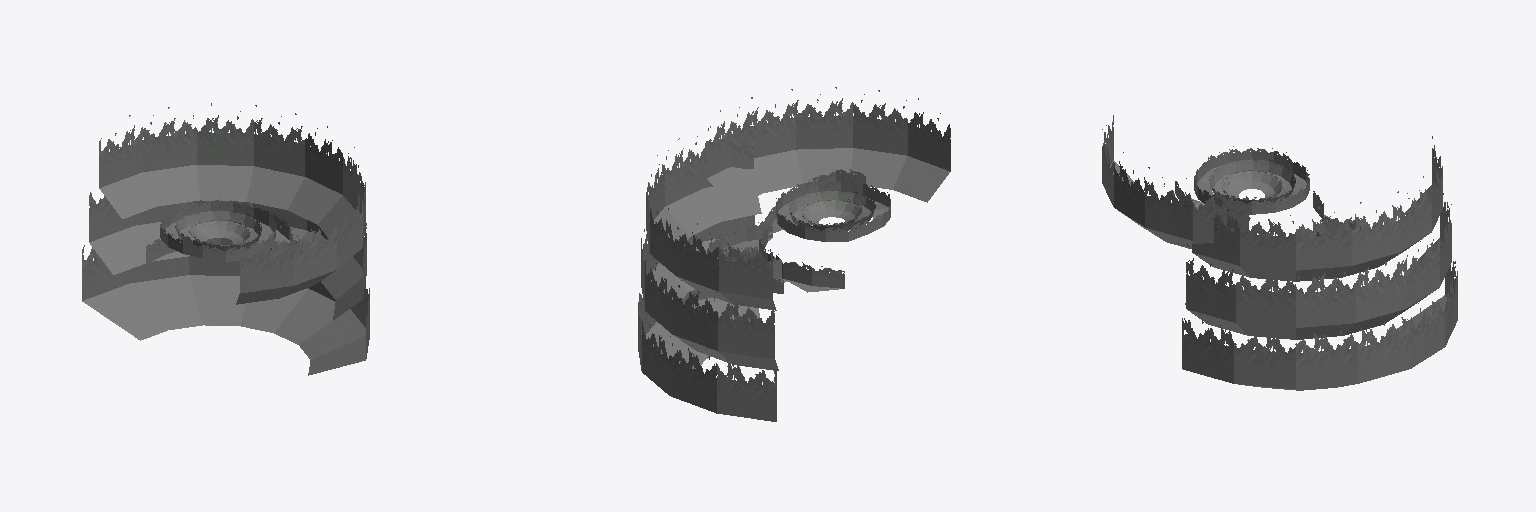
The picture shows the model from 3 angles: view 1: azimuth 30°, elevation 25°; view 2: azimuth 150°, elevation 25°; view 3: azimuth 270°, elevation 25°; orthographic projection.
Visible parts, largest first — view 1: mesh0; view 2: mesh0; view 3: mesh0.
Boxes of the visible parts, <box> form: mesh0: <box>82,103,369,375</box>; mesh0: <box>638,87,950,421</box>; mesh0: <box>1102,115,1457,390</box>.
Size of the model in its own units: 26.75 by 27.34 by 40.3.
Materials: 1 (1 with a texture image).